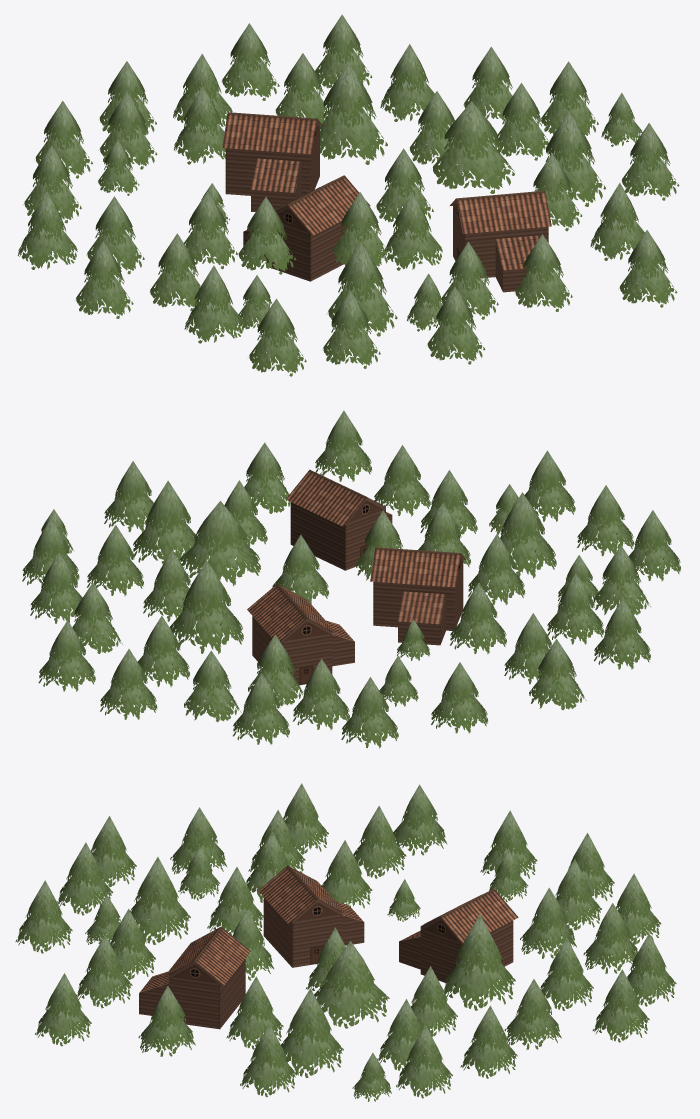
File: SM_ForestHouses2.fbx
3 renders of one model, top to bottom at view 1: azimuth 30°, elevation 25°; view 2: azimuth 150°, elevation 25°; view 3: azimuth 270°, elevation 25°, orthographic. The views are drawn at different scales.
Visible parts, largest first — view 1: SM_Trees, SM_House.001, SM_House, SM_House.004; view 2: SM_Trees, SM_House.004, SM_House, SM_House.001; view 3: SM_Trees, SM_House, SM_House.004, SM_House.001.
Boxes of the visible parts, <box> form: SM_Trees: <box>17,14,679,376</box>; SM_House.001: <box>222,112,322,211</box>; SM_House: <box>450,190,551,292</box>; SM_House.004: <box>243,175,370,281</box>; SM_Trees: <box>22,410,680,748</box>; SM_House.004: <box>370,547,465,645</box>; SM_House: <box>285,469,392,570</box>; SM_House.001: <box>247,584,354,685</box>; SM_Trees: <box>15,783,676,1101</box>; SM_House: <box>139,927,250,1029</box>; SM_House.004: <box>258,865,364,967</box>; SM_House.001: <box>399,889,518,985</box>.
Bounding box in the file's own units: 90.19 × 13.84 × 91.69.
